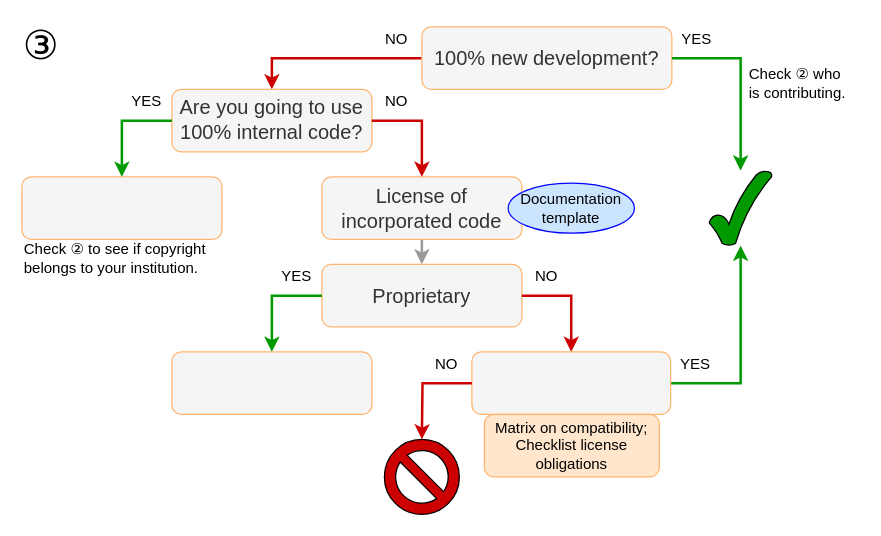
The diagram is 881 pixels wide and 536 high, and some of its shapes have lost their labels. The shapes that lost their labels are listed below. From the top down, each one's box as (x1, y1, x2, y2) in pixels, then its label:
(21, 176, 222, 239): Go to Who is contributing
(171, 351, 372, 414): License with supplier / manufacturer
(471, 351, 671, 414): License compliance
